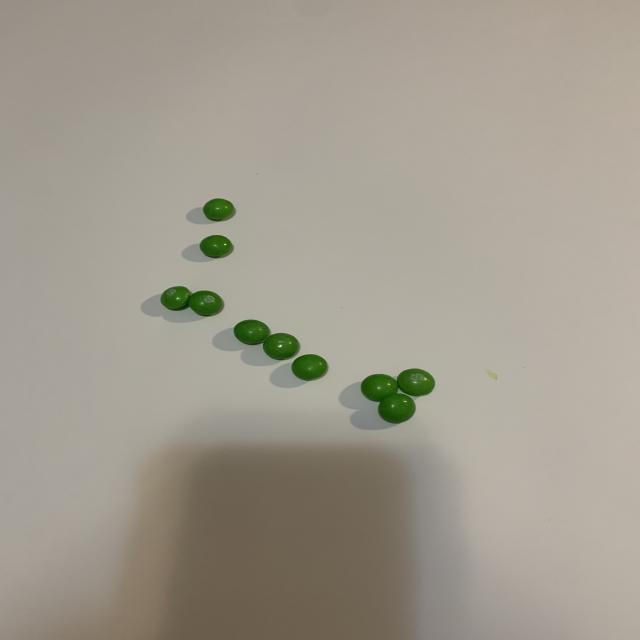smartie: (378, 394, 415, 424), (397, 369, 435, 397), (361, 374, 398, 402), (262, 333, 299, 360), (291, 354, 327, 381), (233, 320, 270, 345), (188, 291, 222, 316), (199, 235, 232, 258), (202, 198, 234, 221), (160, 286, 190, 309)
